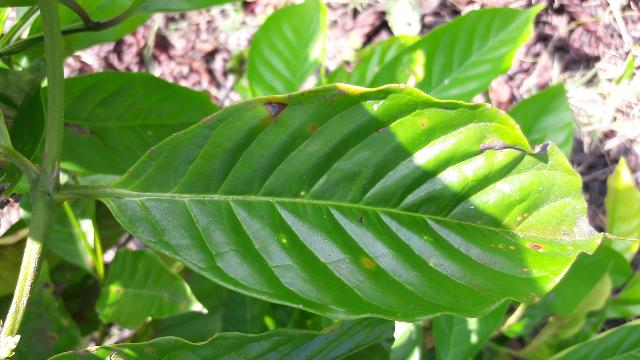rust_level_1: (109, 94, 575, 322)
